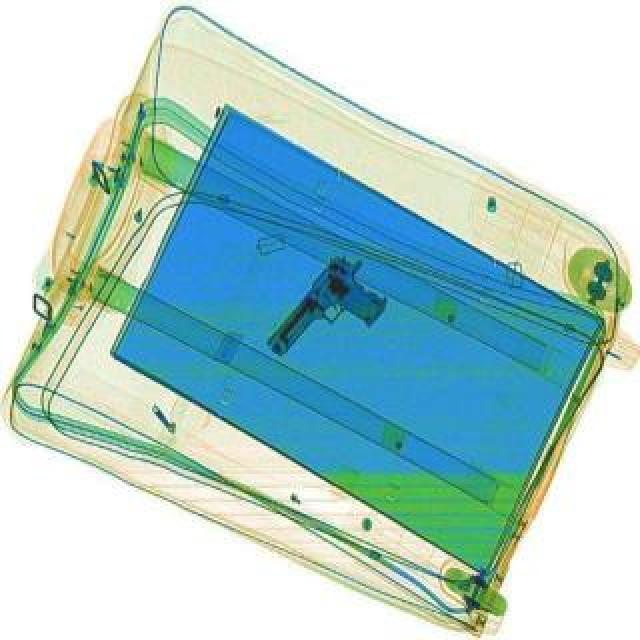gun: (258, 244, 402, 384)
